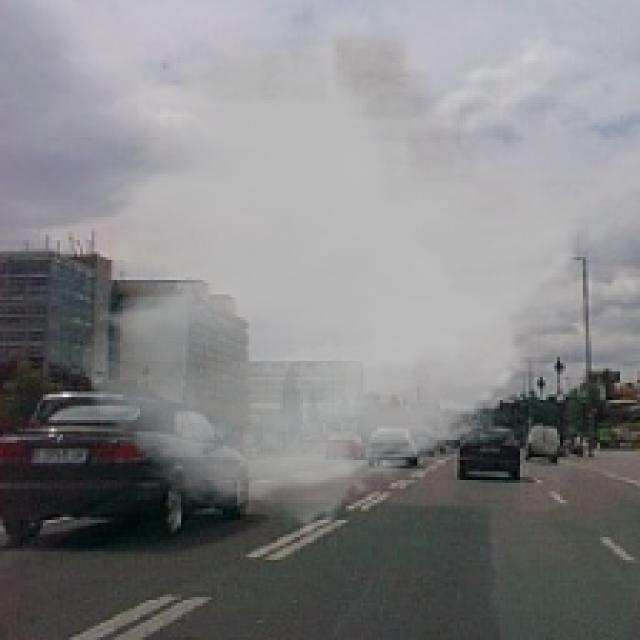Smoke: (77, 22, 614, 538)
